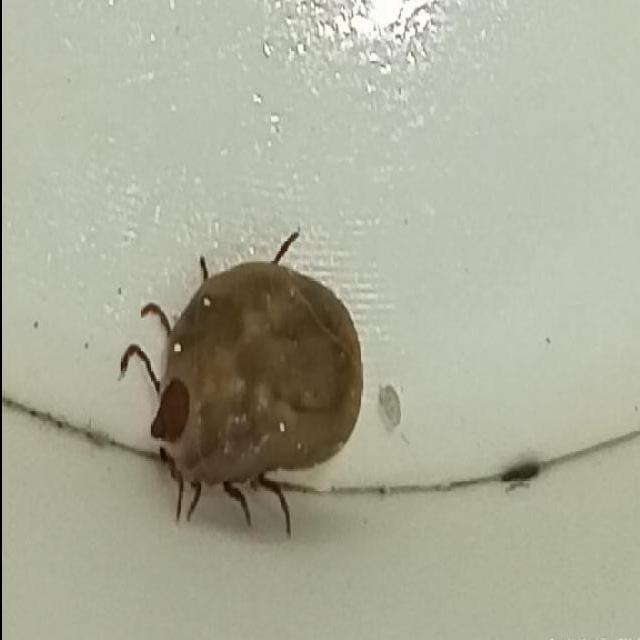Rhipicephalus Sanguineus-F-Fed: (114, 231, 361, 539)
